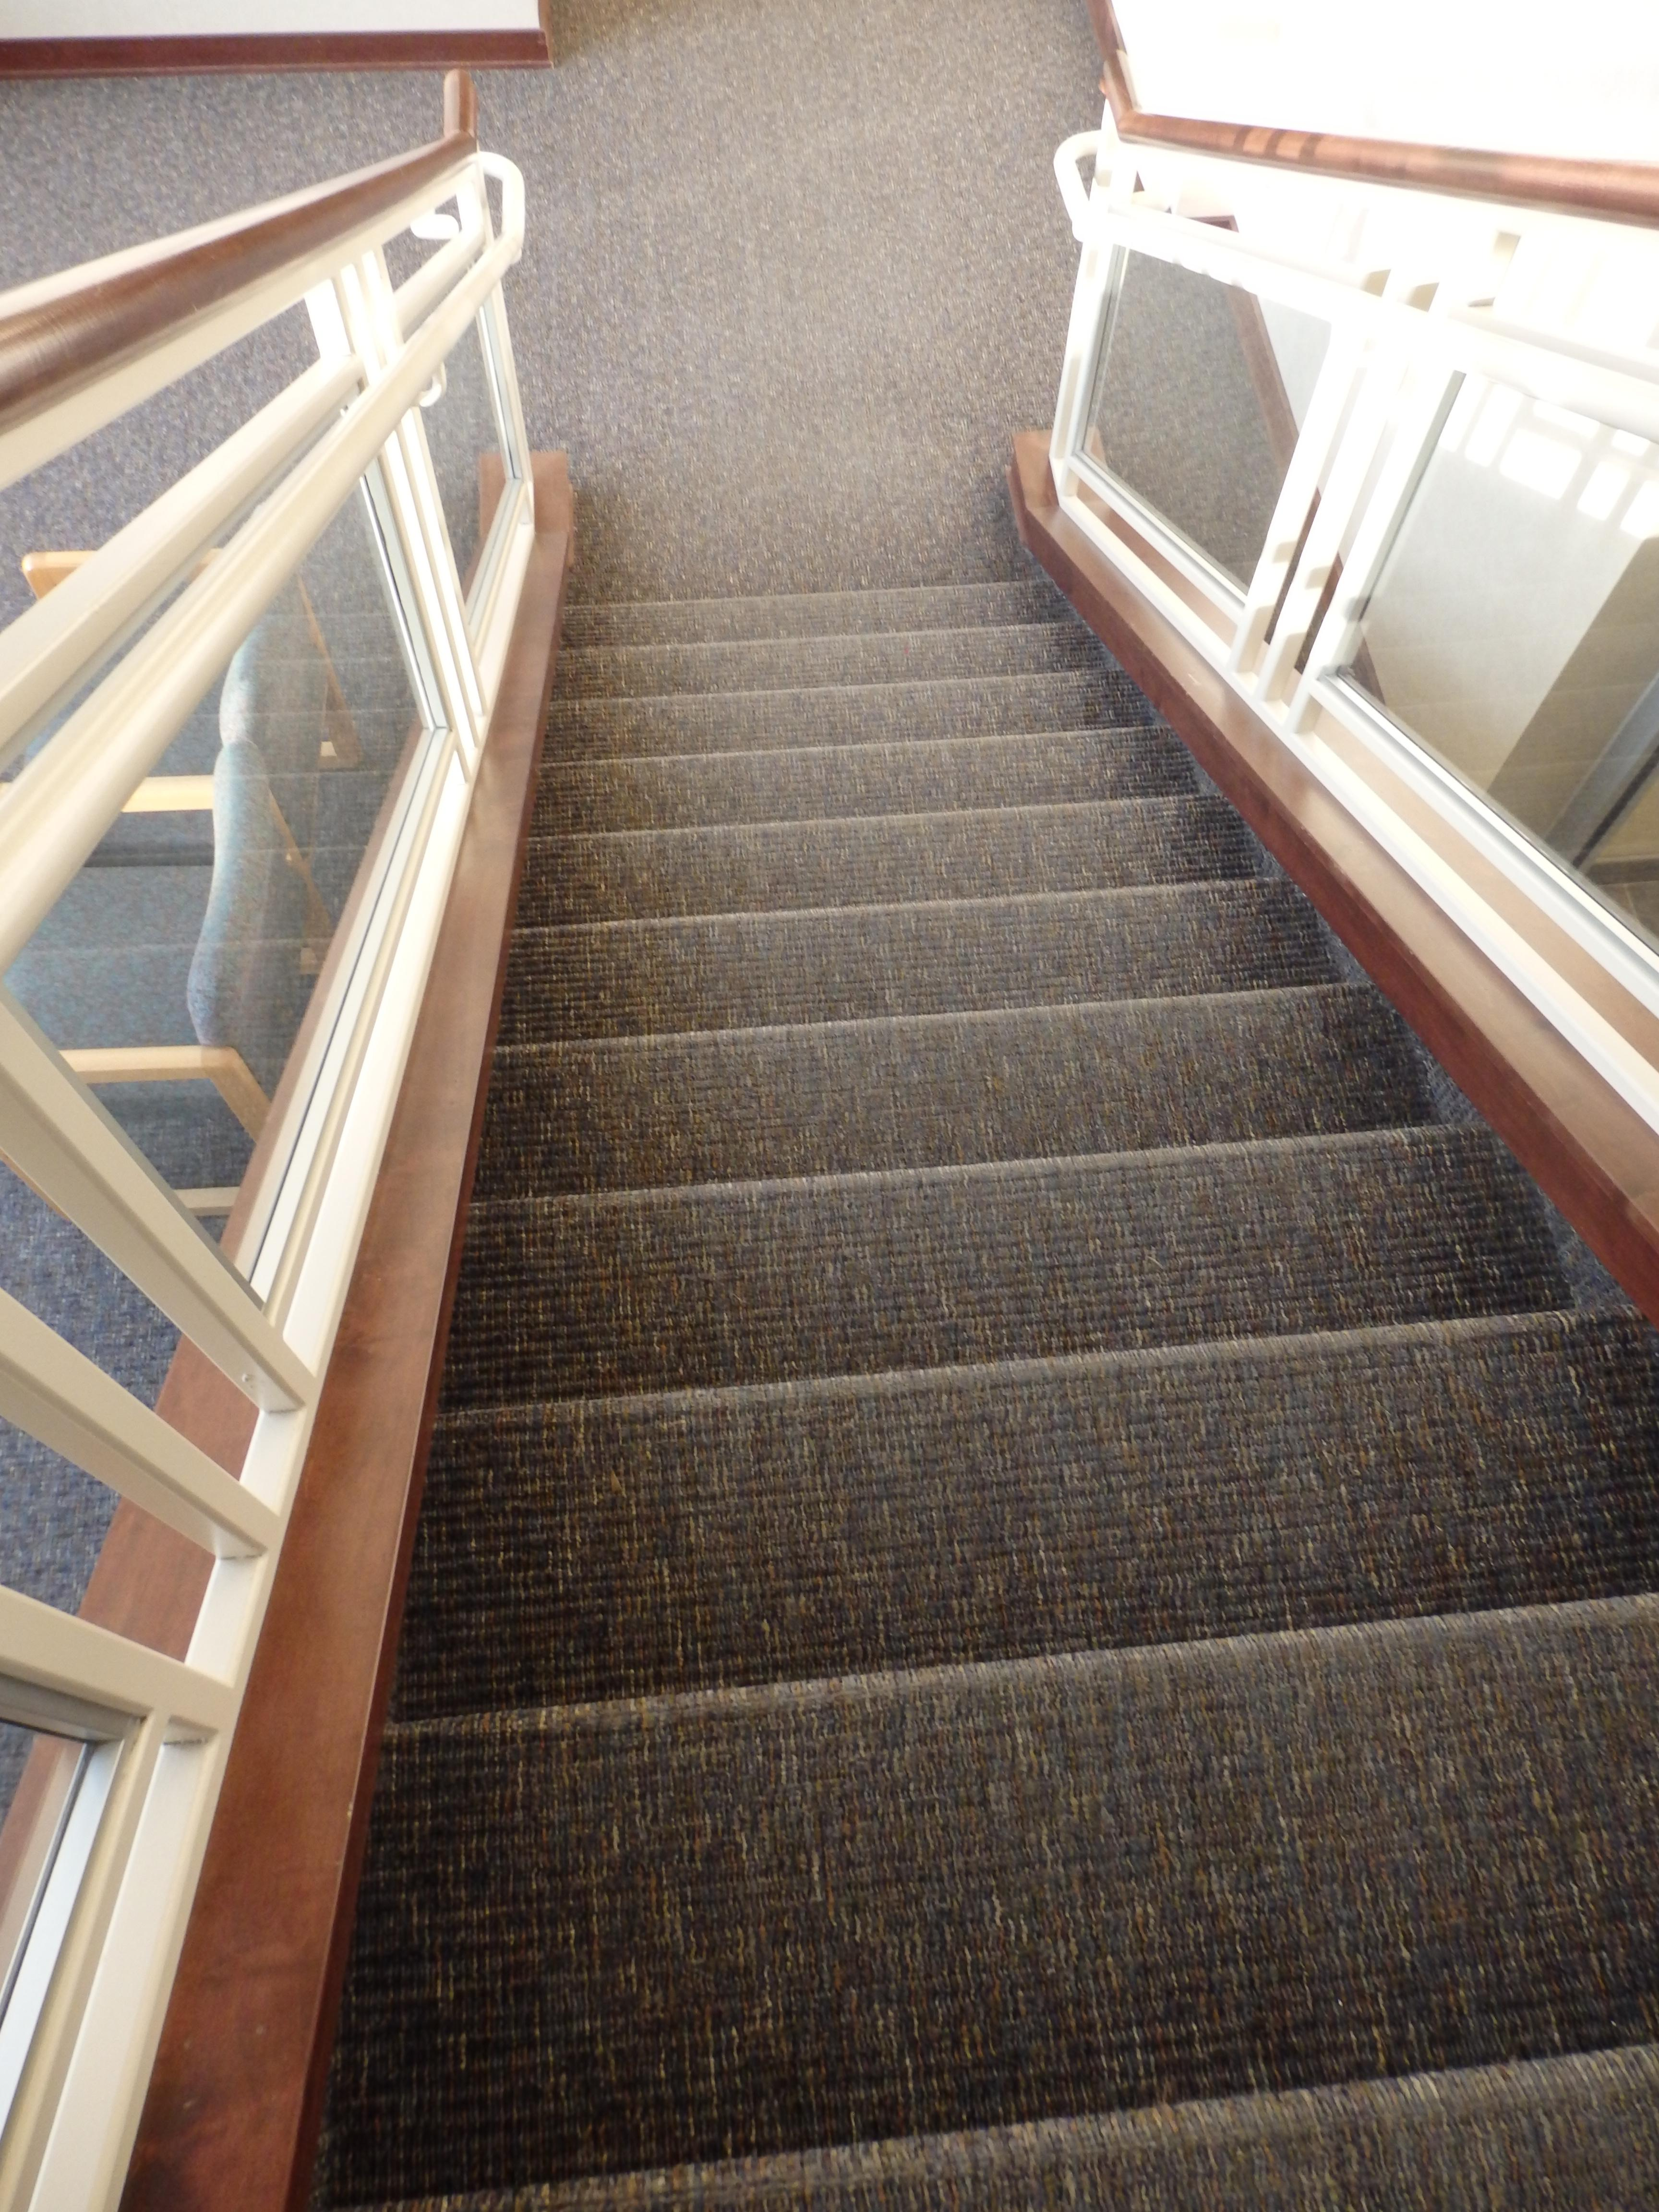stairs_down: (441, 557, 1659, 2209)
